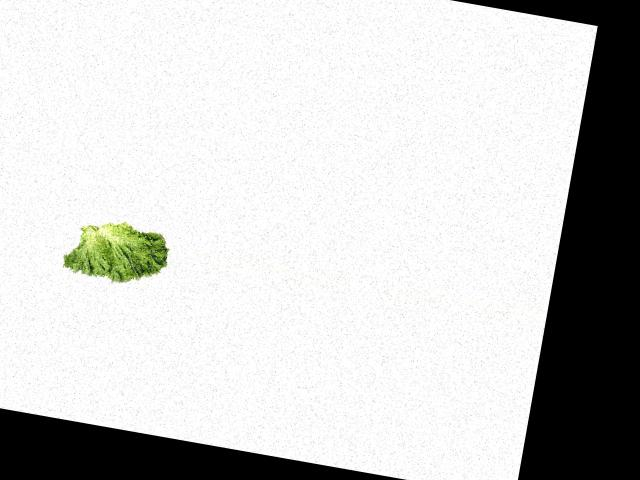lettuce: (60, 209, 174, 298)
